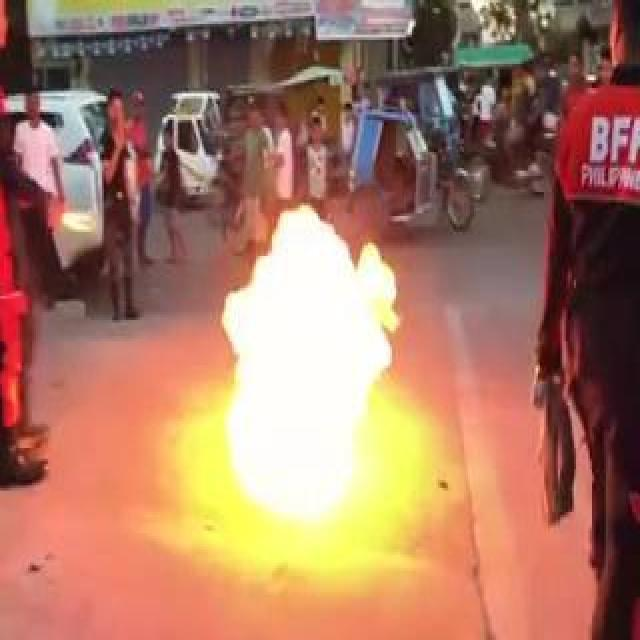Fire: (218, 205, 396, 520)
